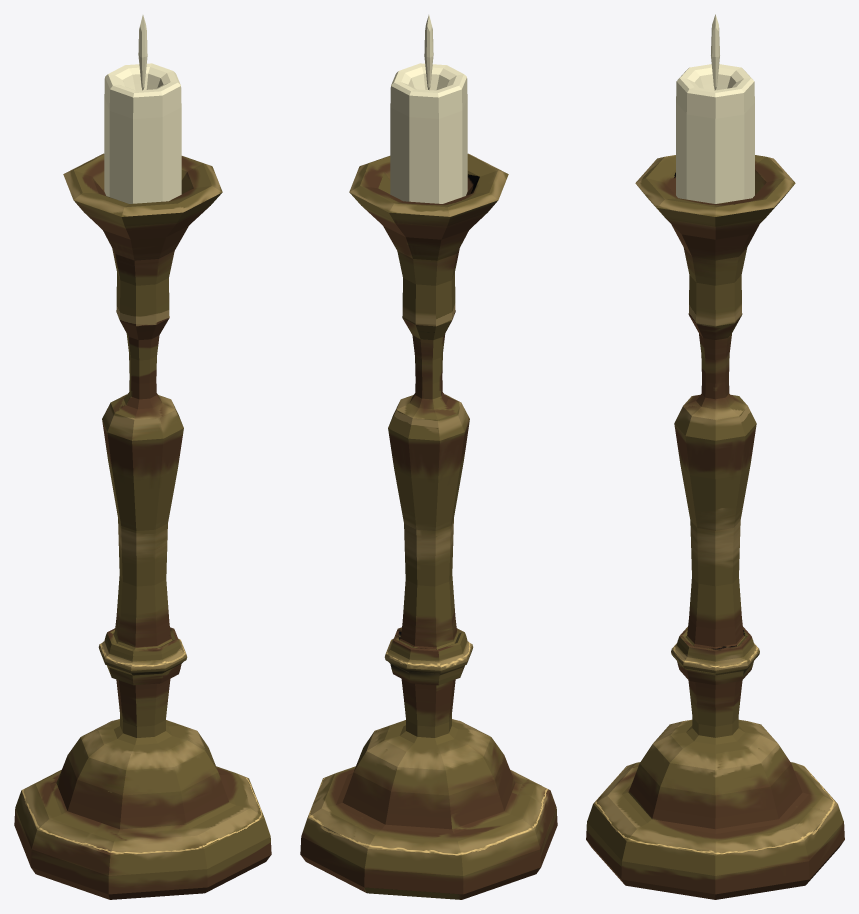
File: lysestage.fbx
The picture shows the model from 3 angles, left to right: view 1: azimuth 30°, elevation 25°; view 2: azimuth 150°, elevation 25°; view 3: azimuth 270°, elevation 25°; orthographic projection.
Parts seen in each view (by area): view 1: Cube, Cube.001; view 2: Cube, Cube.001; view 3: Cube, Cube.001.
Part boxes in pixels (x1,y1,x2,y2): Cube: (14, 153, 271, 899); Cube.001: (104, 15, 181, 203); Cube: (300, 153, 557, 899); Cube.001: (390, 15, 467, 203); Cube: (586, 155, 844, 899); Cube.001: (676, 14, 754, 203).
Bounding box in the file's own units: 183 × 652 × 183.
